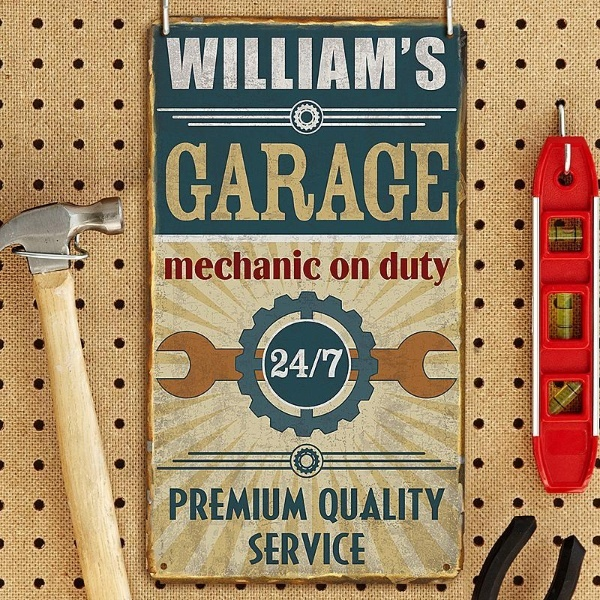text: (177, 142, 192, 222), (193, 142, 208, 222), (209, 142, 224, 222), (225, 142, 240, 222), (241, 142, 256, 222), (257, 142, 272, 222), (273, 142, 288, 222), (289, 142, 304, 222), (305, 142, 320, 222), (321, 142, 336, 222), (337, 142, 352, 222), (353, 142, 368, 222), (369, 142, 384, 222), (385, 142, 400, 222), (401, 142, 416, 222), (417, 142, 432, 222), (433, 142, 448, 222), (165, 142, 176, 222), (177, 37, 192, 91), (193, 37, 208, 91), (209, 37, 224, 91), (225, 37, 240, 91), (241, 37, 256, 91), (257, 37, 272, 91), (273, 37, 288, 91), (289, 37, 304, 91), (305, 37, 320, 91), (321, 37, 336, 91), (337, 37, 352, 91), (353, 37, 368, 91), (369, 37, 384, 91), (385, 37, 400, 91), (401, 37, 416, 91), (417, 37, 432, 91), (433, 37, 447, 91), (385, 249, 400, 287), (401, 249, 416, 287), (417, 249, 432, 287), (433, 249, 448, 287), (321, 487, 336, 524), (337, 487, 352, 524), (353, 487, 368, 524), (369, 487, 384, 524), (385, 487, 400, 524), (401, 487, 416, 524), (417, 487, 432, 524), (433, 487, 448, 524), (166, 37, 176, 91), (177, 487, 192, 521), (193, 487, 208, 521), (209, 487, 224, 521), (225, 487, 240, 521), (241, 487, 256, 521), (257, 487, 272, 521), (273, 487, 288, 521), (289, 487, 304, 521), (257, 532, 272, 565), (273, 532, 288, 565), (289, 532, 304, 565), (305, 532, 320, 565), (321, 532, 336, 565), (337, 532, 352, 565), (177, 249, 192, 281), (193, 249, 208, 281), (209, 249, 224, 281), (225, 249, 240, 281), (241, 249, 256, 281), (257, 249, 272, 281), (273, 249, 288, 281), (289, 249, 304, 281), (305, 249, 320, 281), (273, 347, 288, 379), (289, 347, 304, 379), (305, 347, 320, 379), (321, 347, 336, 379), (353, 532, 367, 565), (163, 249, 176, 281), (337, 257, 352, 280), (353, 257, 368, 280), (169, 487, 176, 521), (249, 532, 256, 565), (337, 347, 344, 379), (328, 257, 336, 280), (449, 142, 451, 222), (380, 249, 384, 287), (305, 487, 308, 521), (449, 249, 451, 287), (318, 487, 320, 524), (369, 257, 371, 280), (321, 249, 322, 281), (271, 347, 272, 379)
